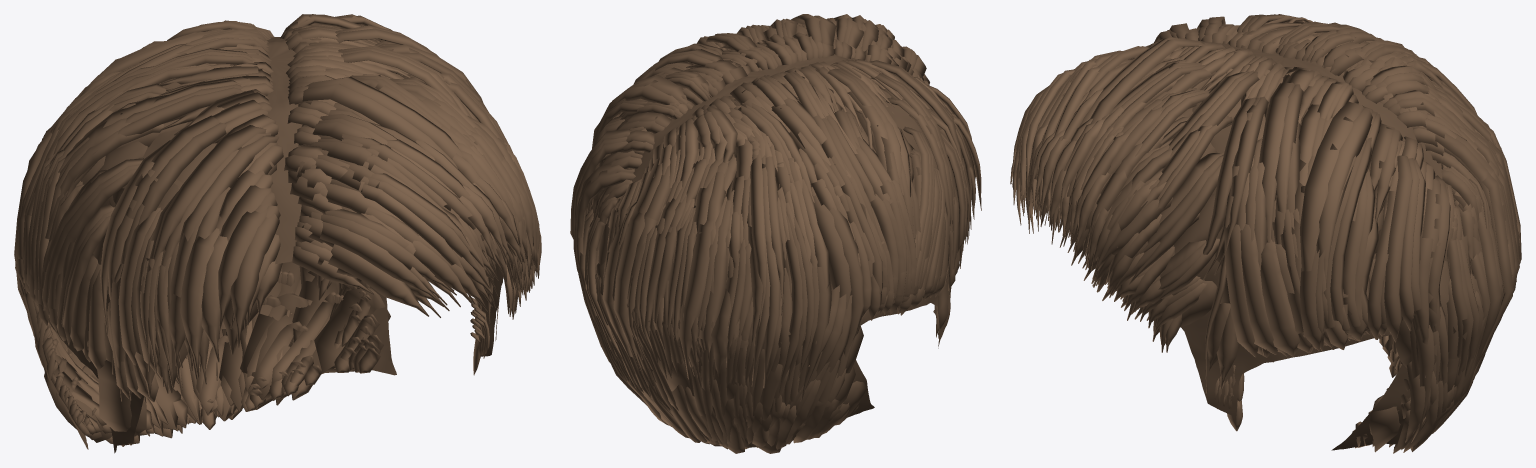
Rendered from straight-short.glb.
3 views of the same model, side by side, from view 1: azimuth 30°, elevation 25°; view 2: azimuth 150°, elevation 25°; view 3: azimuth 270°, elevation 25° (orthographic). The views are drawn at different scales.
Visible parts, largest first — view 1: straight-short / sculpted locks, straight-short / hairline underlayer; view 2: straight-short / sculpted locks, straight-short / hairline underlayer; view 3: straight-short / sculpted locks, straight-short / hairline underlayer.
Part boxes in pixels (x1,y1,x2,y2): straight-short / sculpted locks: (14,14,541,446); straight-short / hairline underlayer: (35,37,503,453); straight-short / sculpted locks: (570,14,981,453); straight-short / hairline underlayer: (593,49,954,447); straight-short / sculpted locks: (1010,14,1521,453); straight-short / hairline underlayer: (1181,40,1472,450).
Bounding box in the file's own units: 0.2348 × 0.242 × 0.2807.
